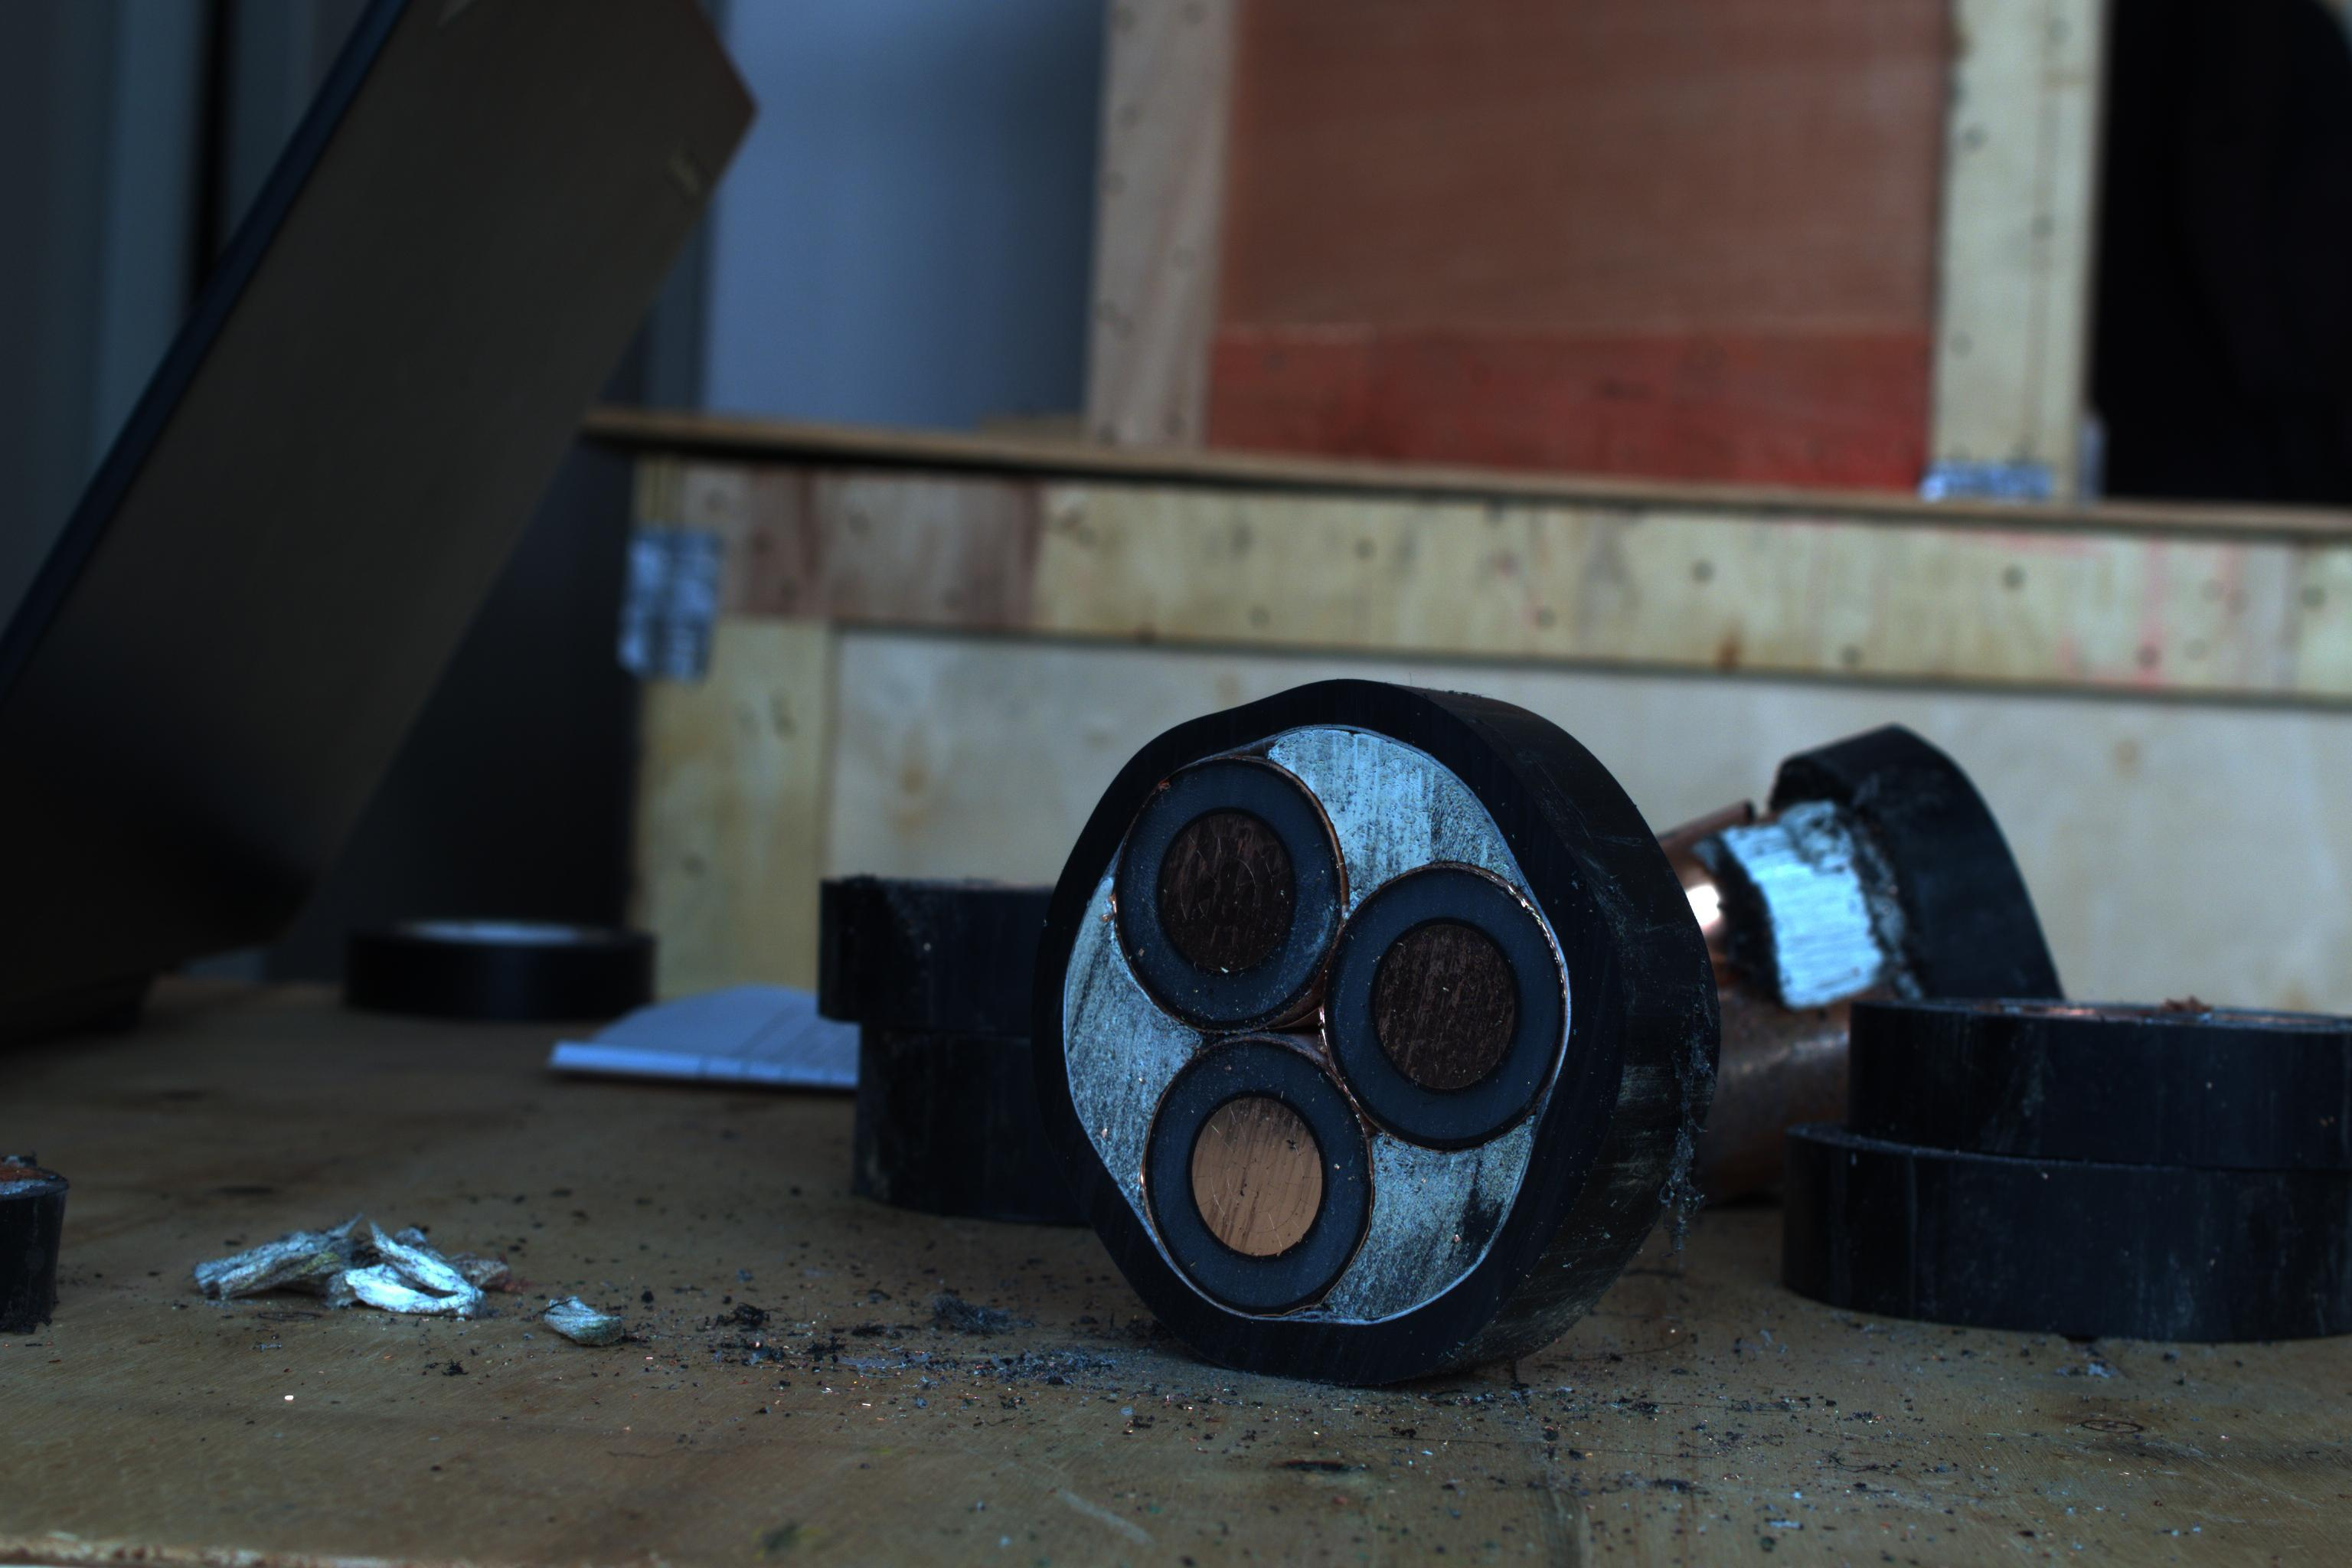ZA_YJV_8.7_10kV_3x240: (1066, 714, 1634, 1384)
